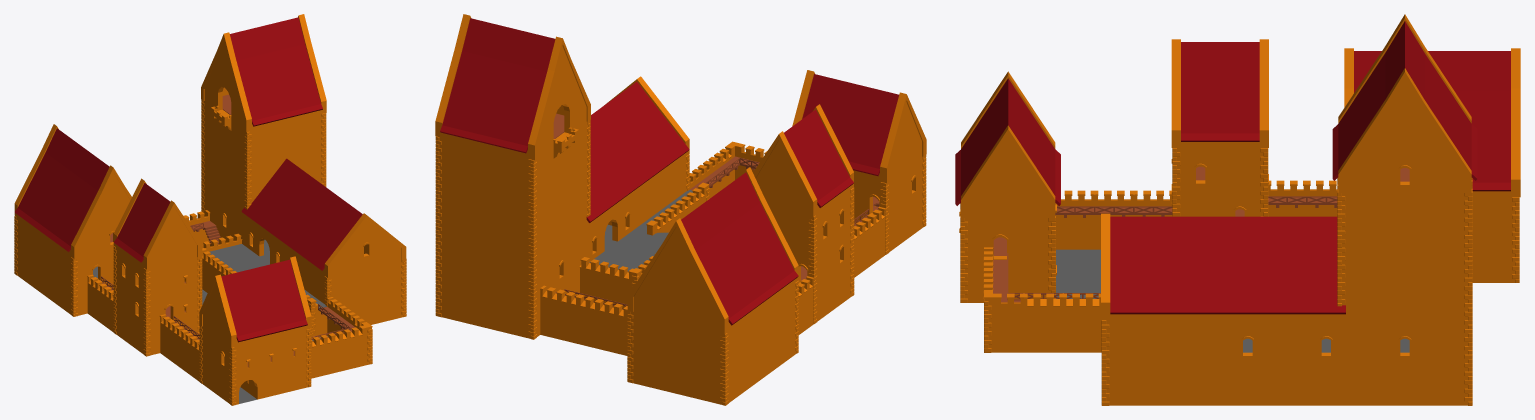
The model's file is mod_temp_castle_01.fbx.
3 renders of one model, left to right at view 1: azimuth 30°, elevation 25°; view 2: azimuth 150°, elevation 25°; view 3: azimuth 270°, elevation 25°, orthographic. The views are drawn at different scales.
Visible parts, largest first — view 1: OuterWall_Basic.320; view 2: OuterWall_Basic.320; view 3: OuterWall_Basic.320.
Part boxes in pixels (bbox=[...]): OuterWall_Basic.320: bbox=[14, 14, 406, 405]; OuterWall_Basic.320: bbox=[435, 14, 926, 405]; OuterWall_Basic.320: bbox=[955, 14, 1520, 405].
Size of the model in its own units: 55.41 by 47 by 71.91.
